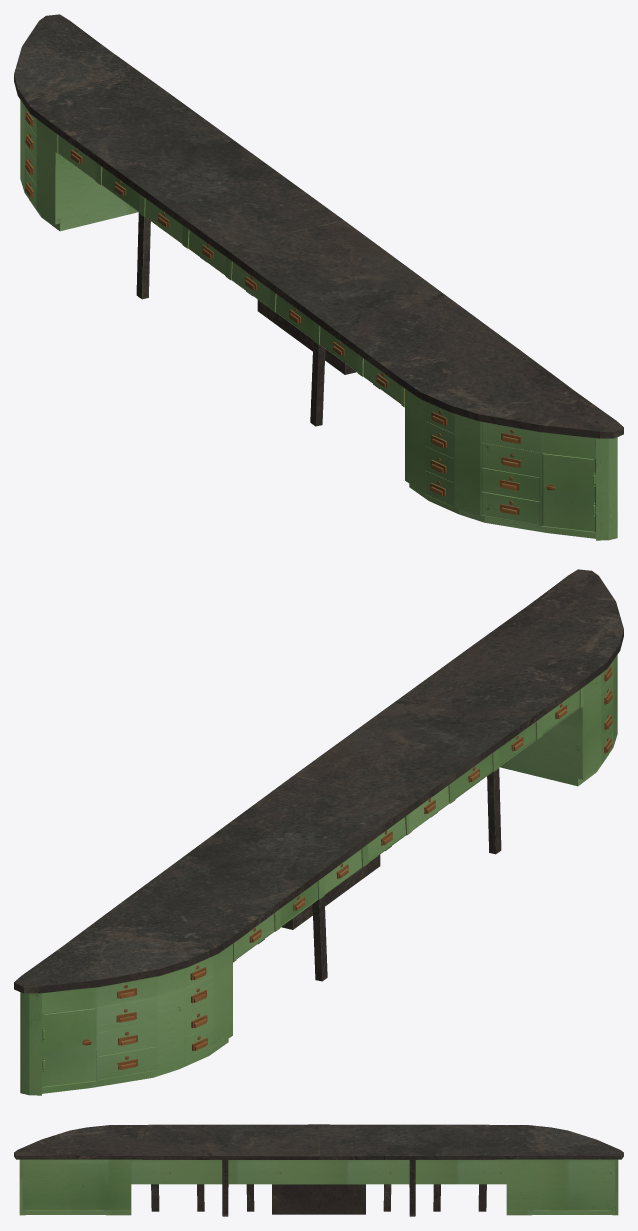
The model's file is TableWTextures.fbx.
The picture shows the model from 3 angles, top to bottom: view 1: azimuth 30°, elevation 25°; view 2: azimuth 150°, elevation 25°; view 3: azimuth 270°, elevation 25°; orthographic projection. The views are drawn at different scales.
Visible parts, largest first — view 1: BackUpTable; view 2: BackUpTable; view 3: BackUpTable.
Part boxes in pixels (x1,y1,x2,y2): BackUpTable: (14, 14, 623, 540); BackUpTable: (14, 569, 623, 1095); BackUpTable: (14, 1124, 623, 1216).
Size of the model in its own units: 88.38 by 80.01 by 725.
Materials: 1 (1 with a texture image).
